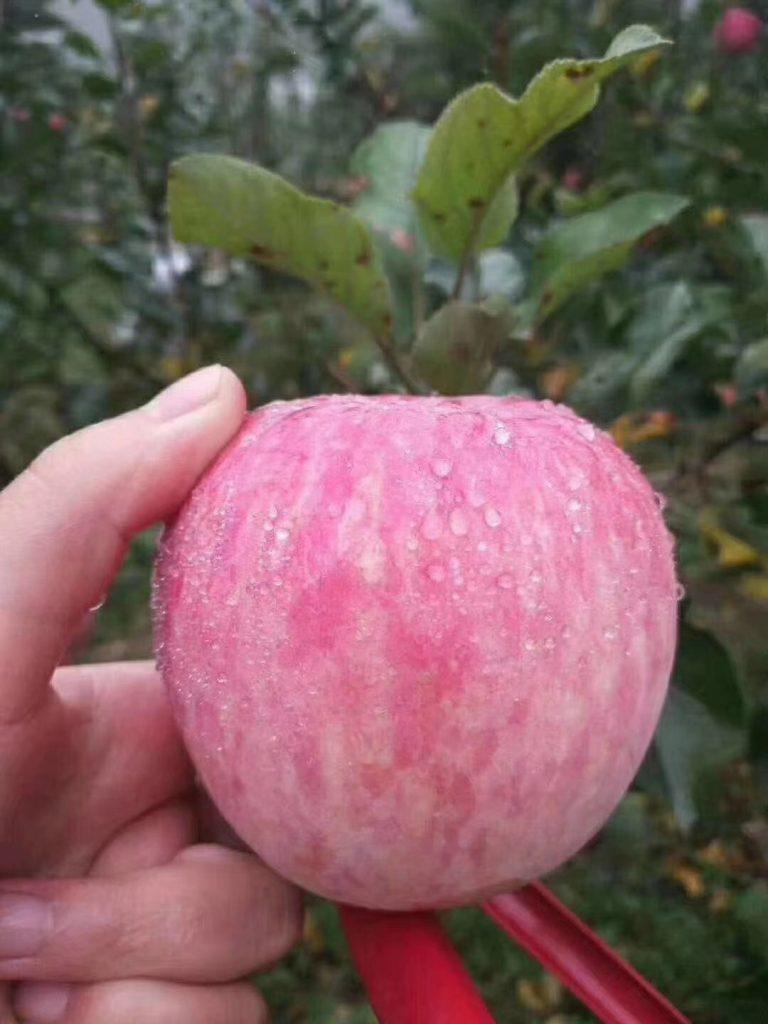apple: (142, 371, 676, 905)
